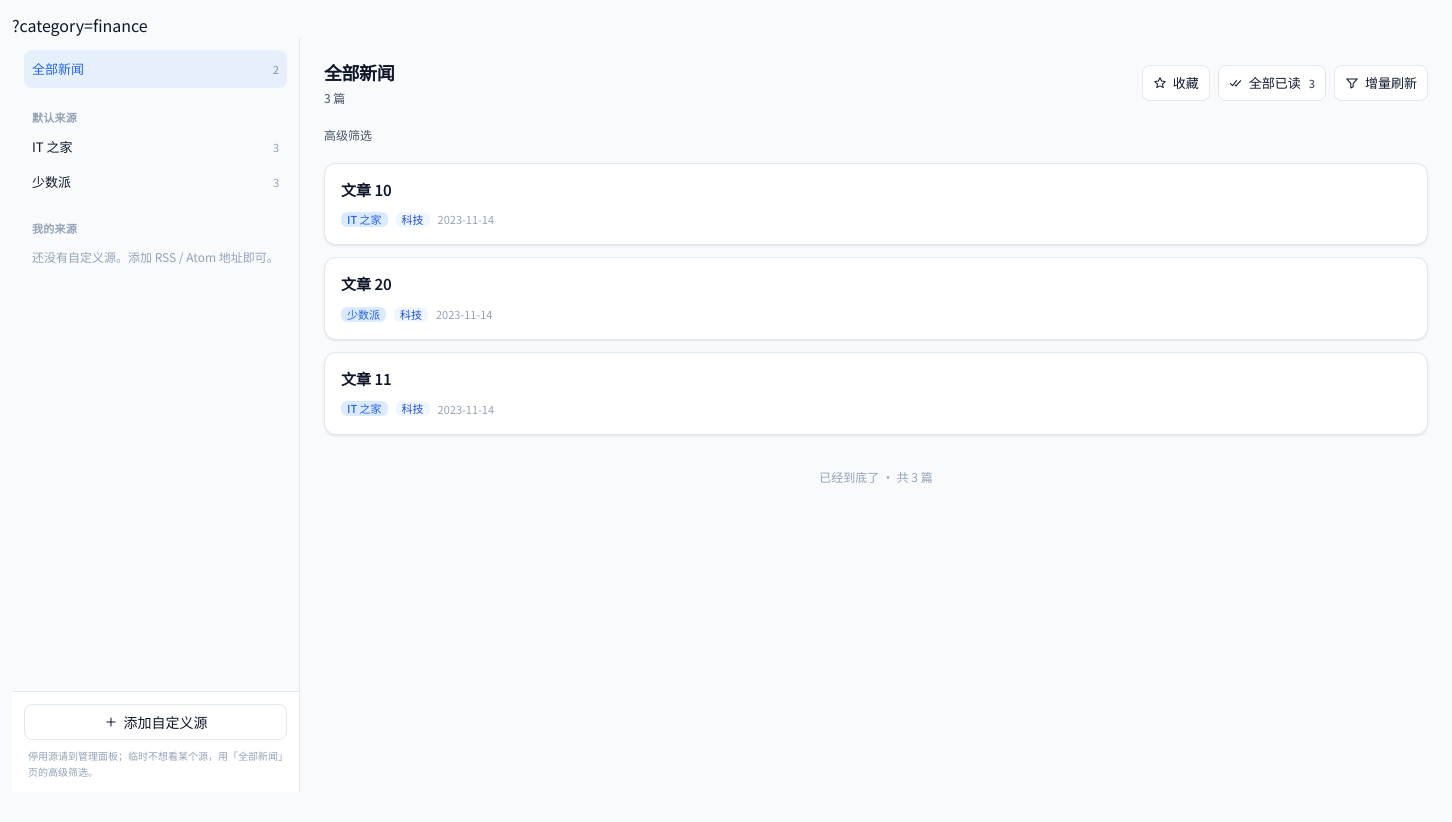
Scenario: 点来源 = 独占切换 › URL 里已带 category 时，点来源要把 category 清掉（否则两参数叠加成空列表）
What coordinates should you click on to do the following:
click the button "少数派 3"
I would click on:
 (52, 182)
Its box is [24,165,287,199].
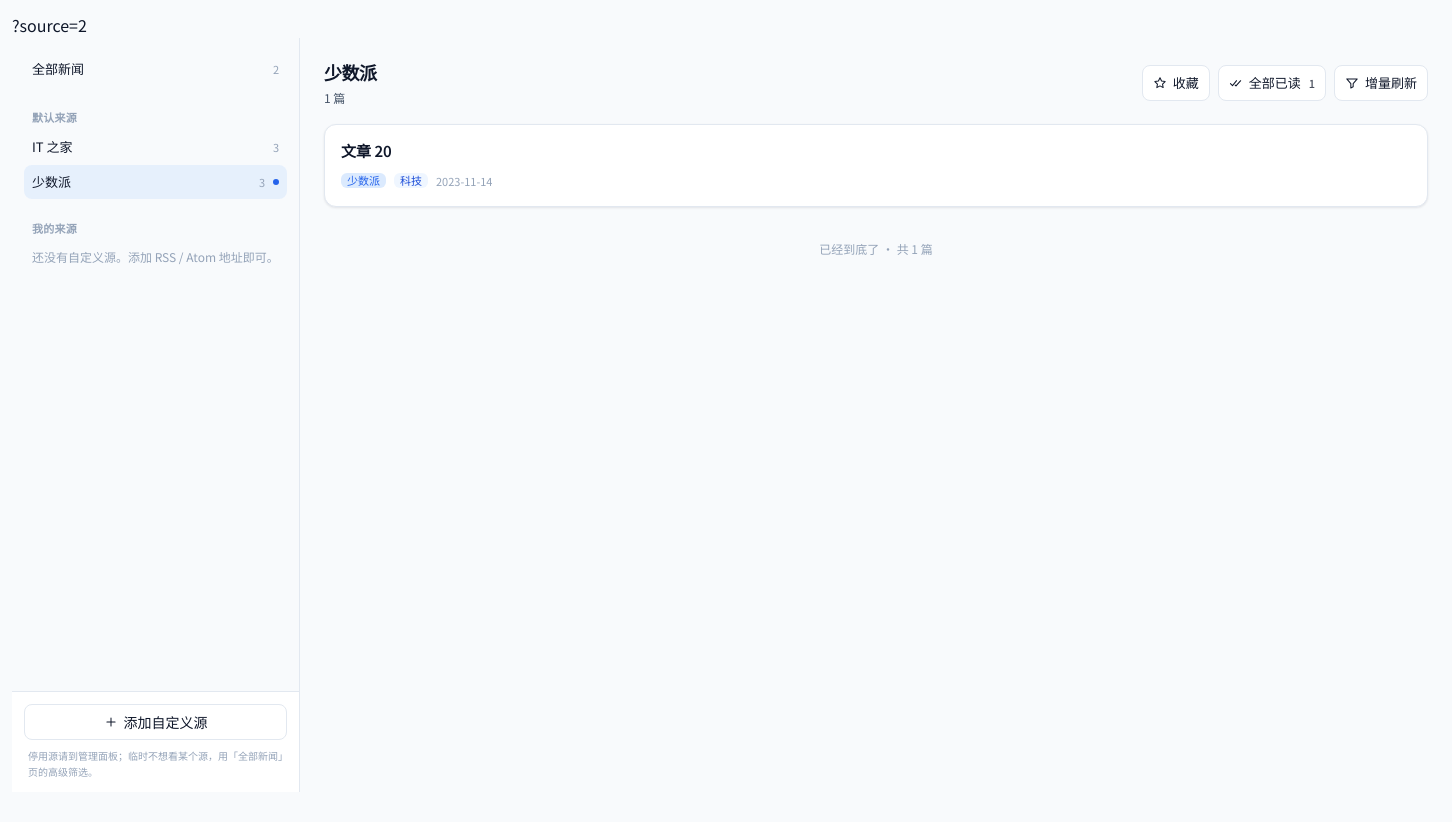
Expected: the text "?source=2" is shown, [12,13,87,37]
Expected: the text "category" is gone
